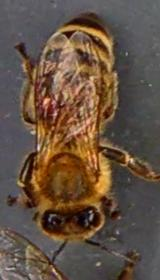varroa_mite: (36, 92, 58, 116)
